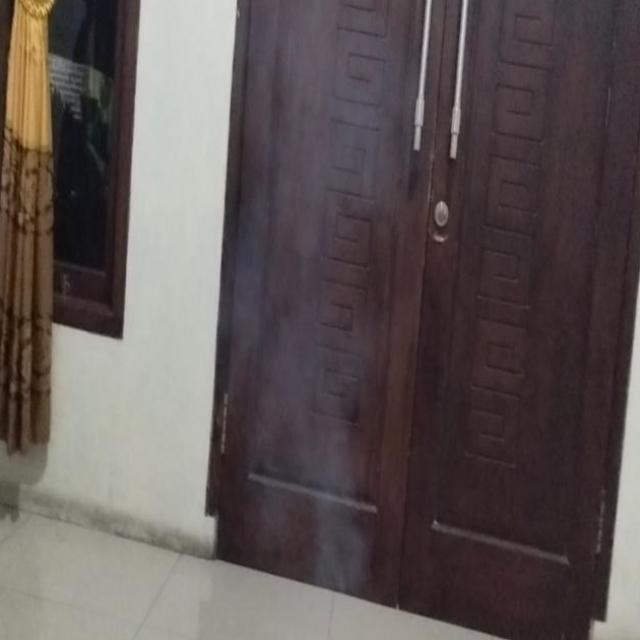fire: (234, 0, 384, 611)
